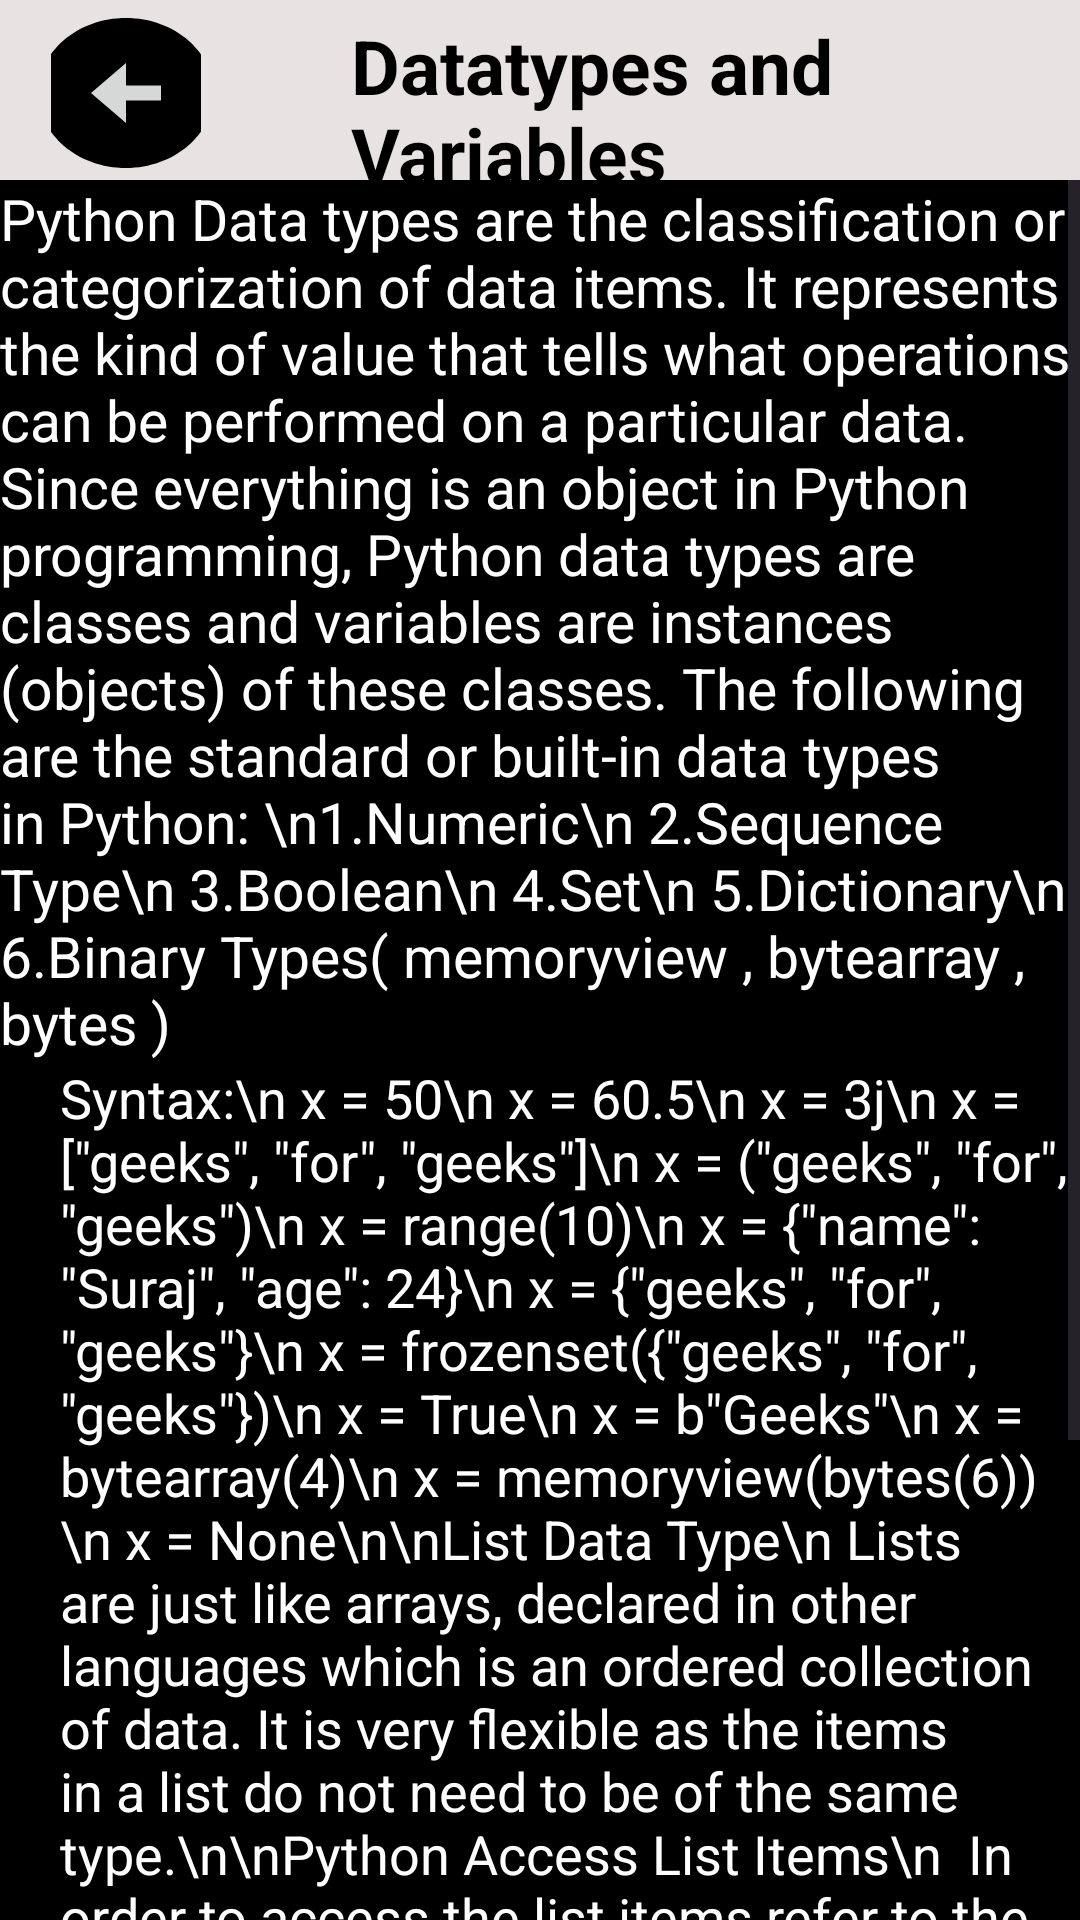

Icon bounding boxes for this 1080 x 1920 phone screenshot, format box(x1, y1, x2, y2):
arrow circle left: box(51, 18, 201, 168)
